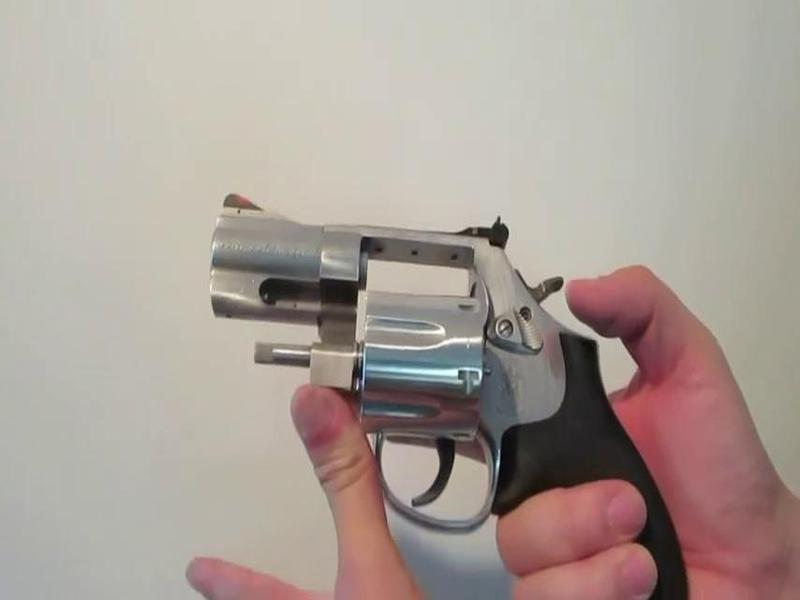Revolver: (203, 177, 721, 600)
